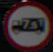Heavy Vehicles: (5, 2, 51, 44)
